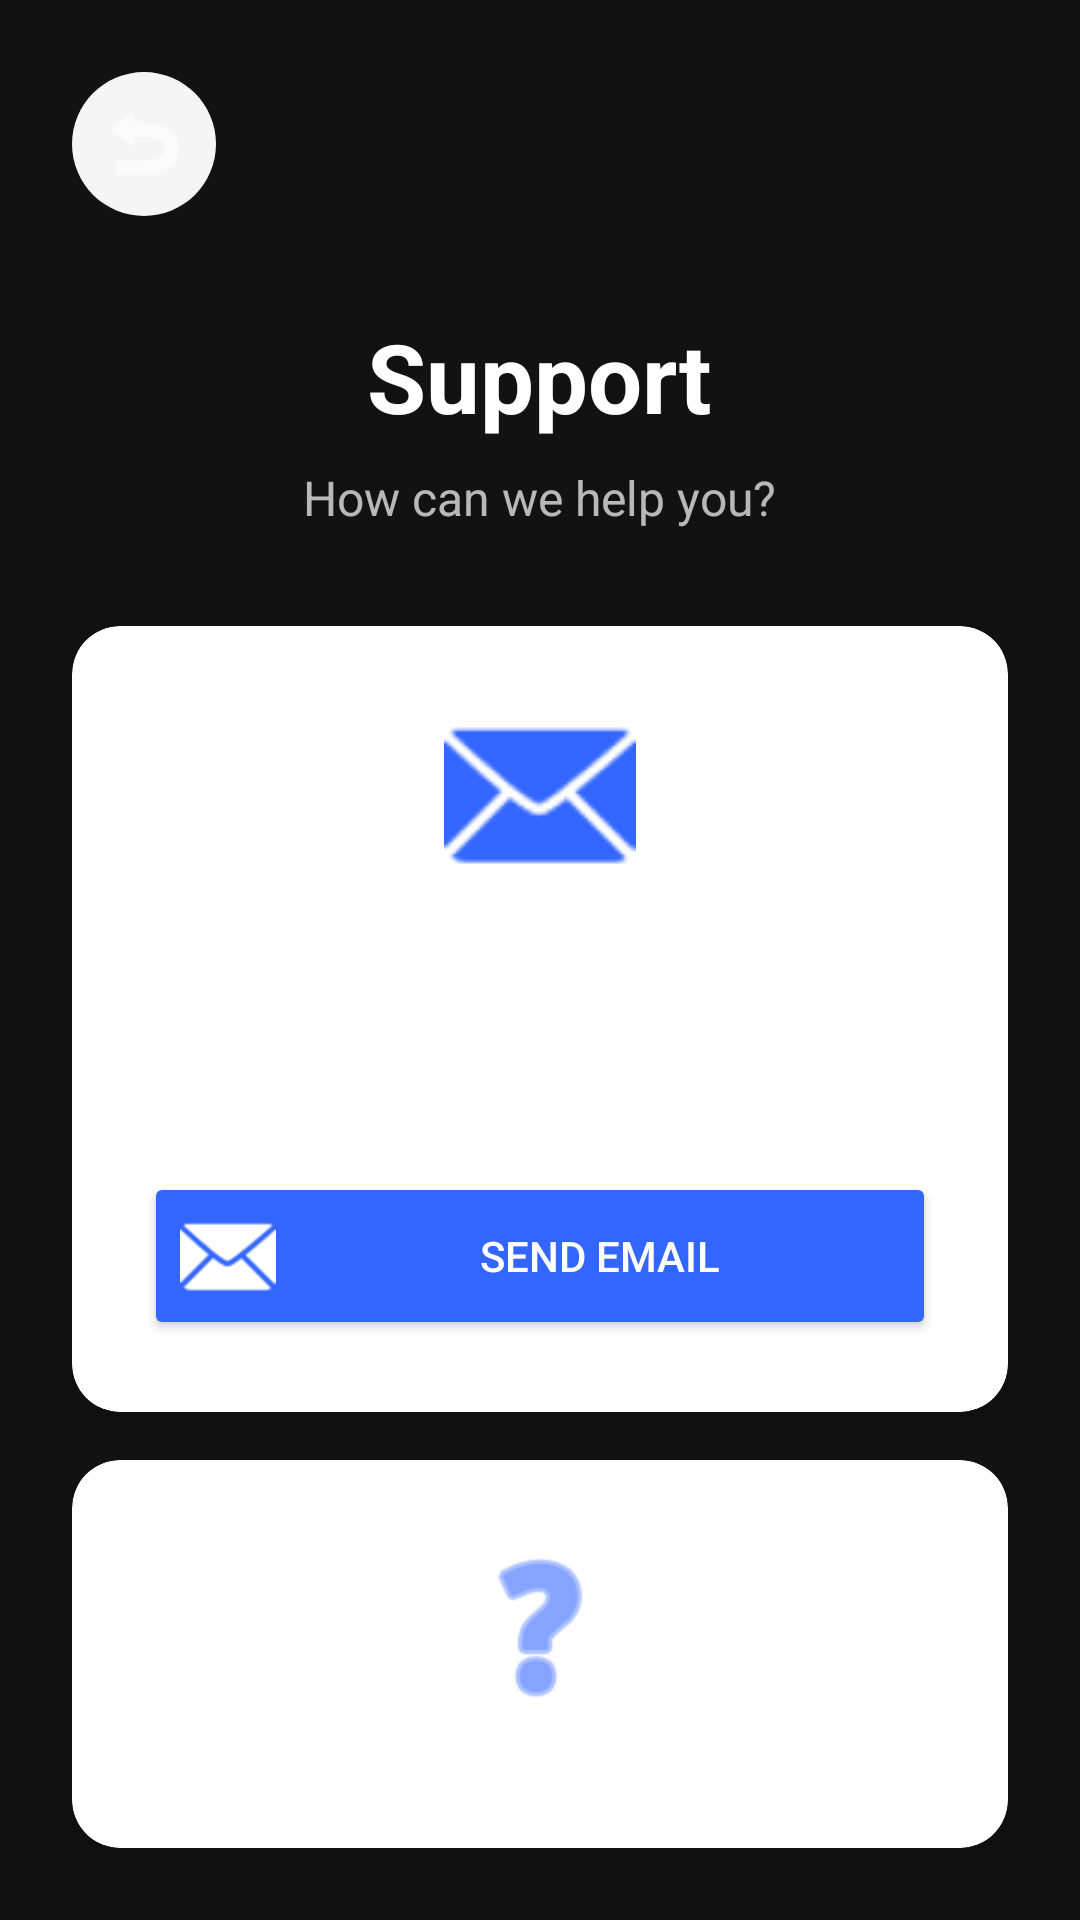

Point at icon controls on the screen. Image size 1080 x 1920, points as [x,y].
help: [540,1628]
revert: [144,144]
